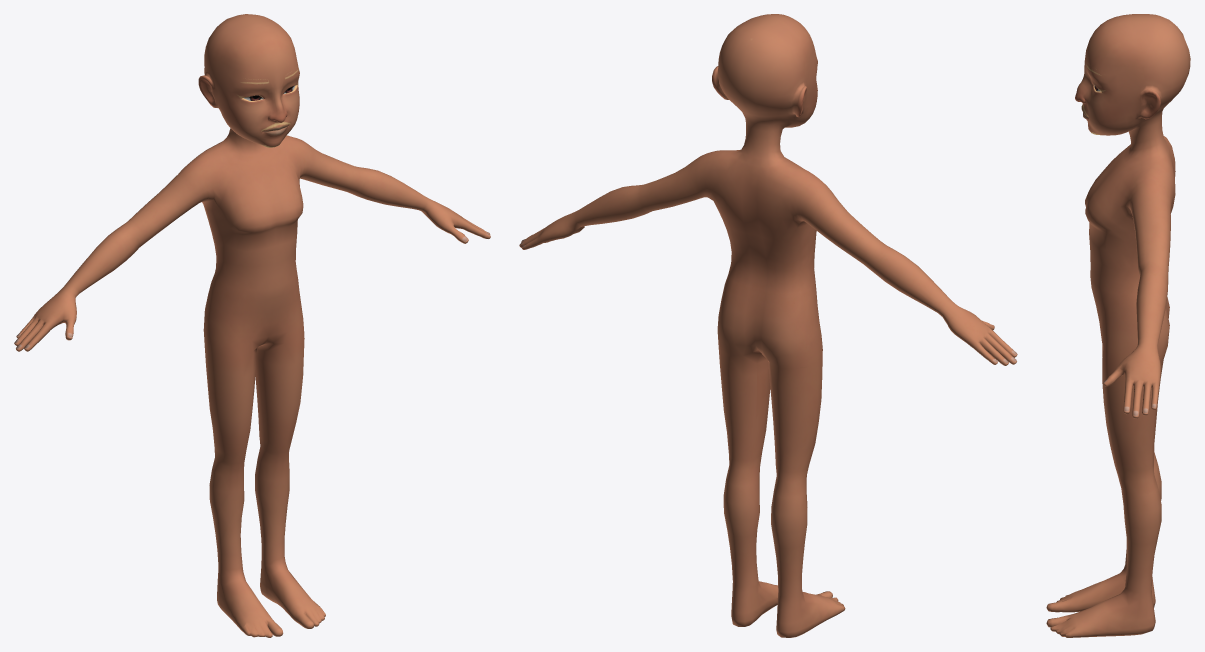
The model's file is frame_0098.glb.
3 views of the same model, side by side, from view 1: azimuth 30°, elevation 25°; view 2: azimuth 150°, elevation 25°; view 3: azimuth 270°, elevation 25° (orthographic). The views are drawn at different scales.
Visible parts, largest first — view 1: frame_0098_head_geo; view 2: frame_0098_head_geo; view 3: frame_0098_head_geo.
Part boxes in pixels (left/top/right/bottom): frame_0098_head_geo: left=14, top=14, right=490, bottom=637; frame_0098_head_geo: left=519, top=14, right=1017, bottom=637; frame_0098_head_geo: left=1046, top=14, right=1190, bottom=637.
Size of the model in its own units: 1.28 by 1.5 by 0.3253.
Materials: 3 (3 with a texture image).
